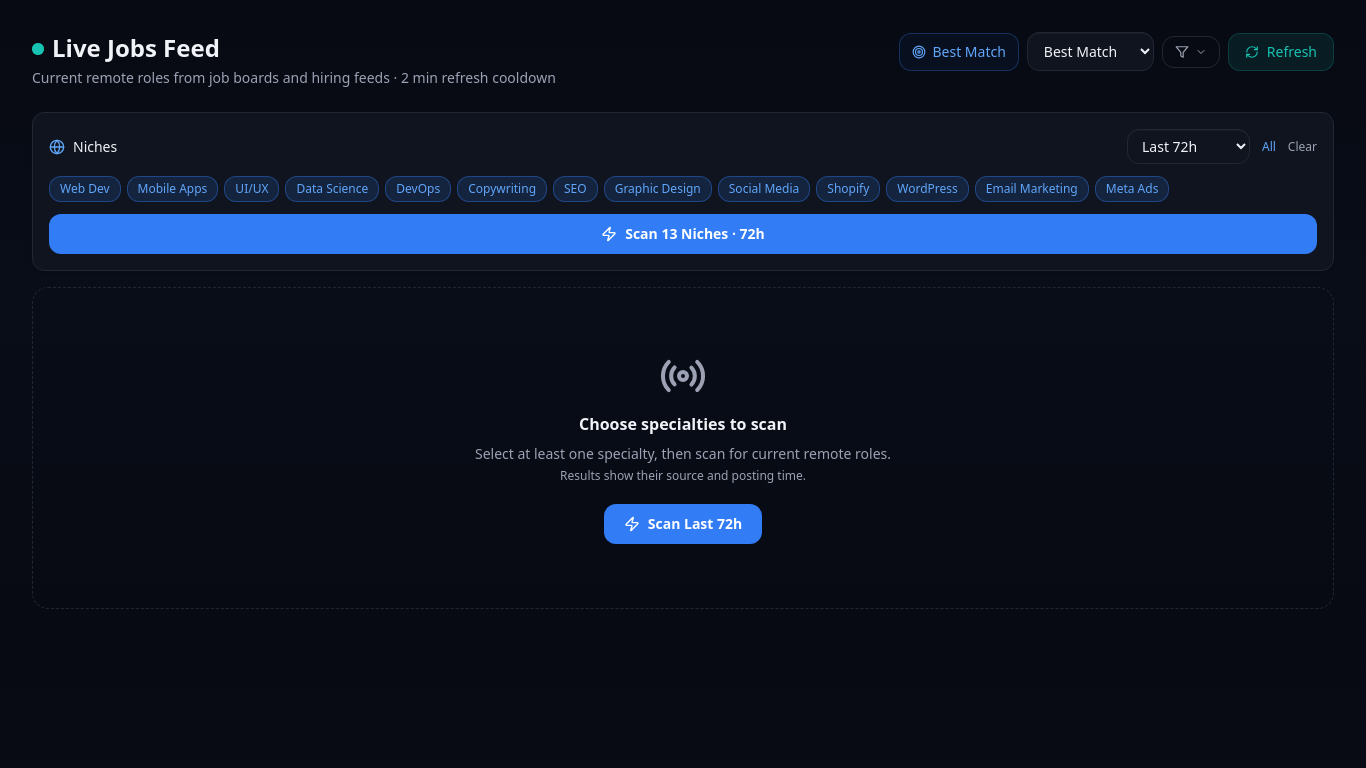
it: saves the same preference values through the accessible controls
The image size is (1366, 768).
Click the button with aria-label "Best Match settings" at (959,52), box [899,32,1019,70]
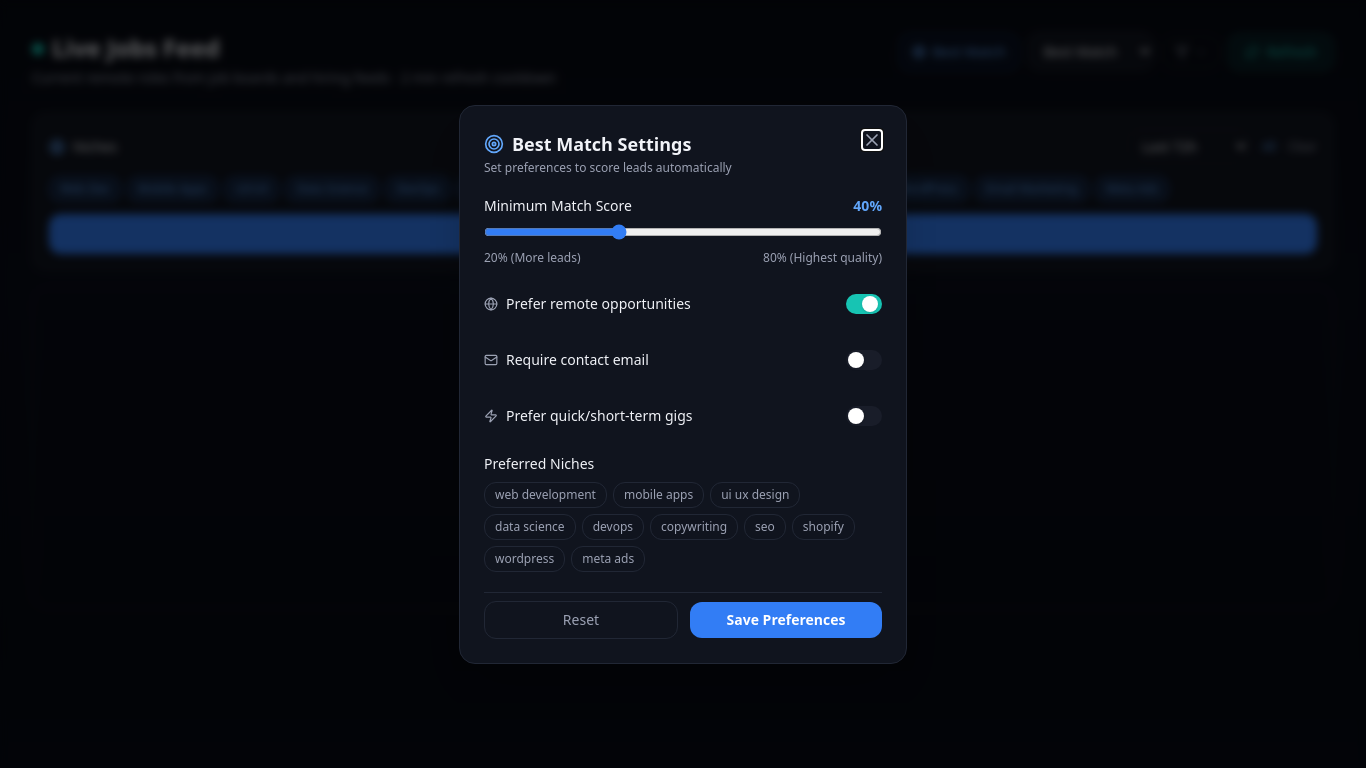
Click the switch named "Require contact email" at (864,360), box [846,350,882,370]
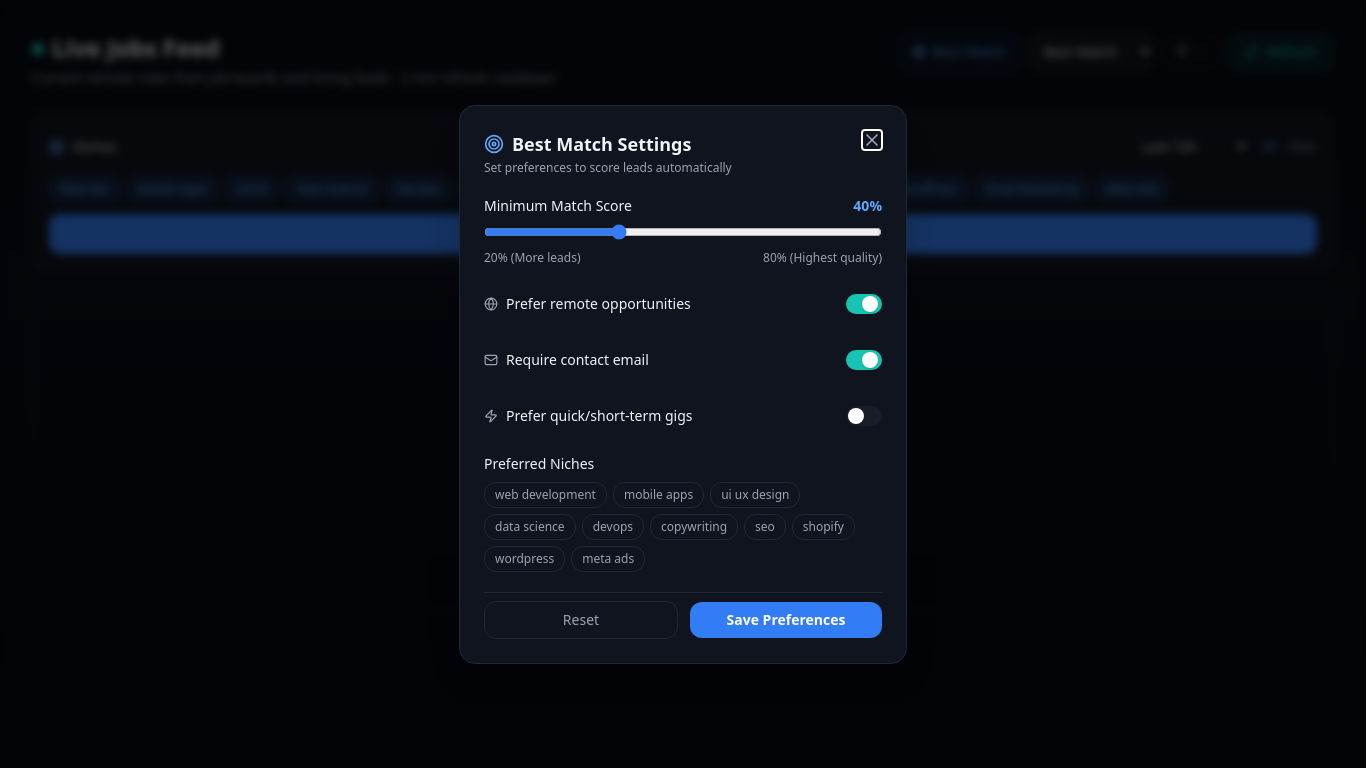
Set the slider named "Minimum Match Score" to "70" at (810,232), box [484,224,882,240]
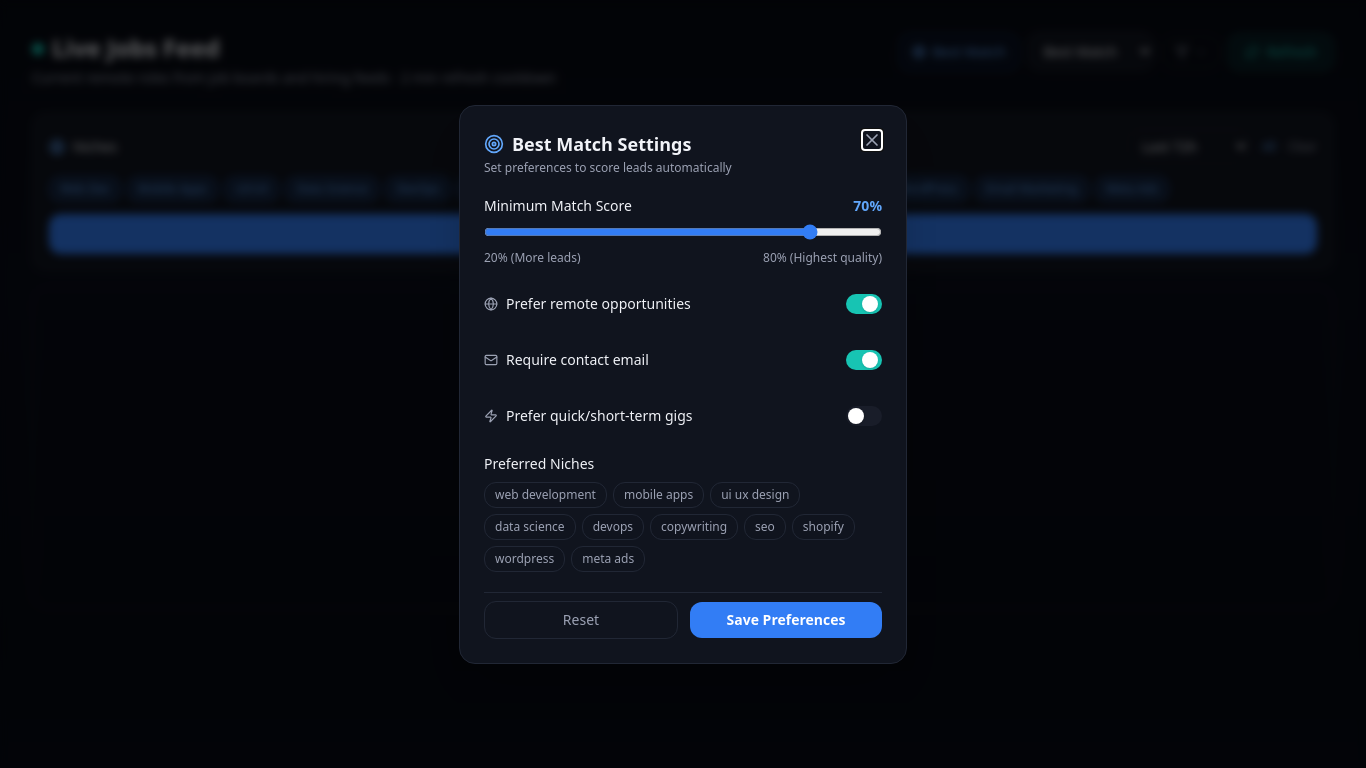
Click the button "Save Preferences" at (786,620), box [690,602,882,638]
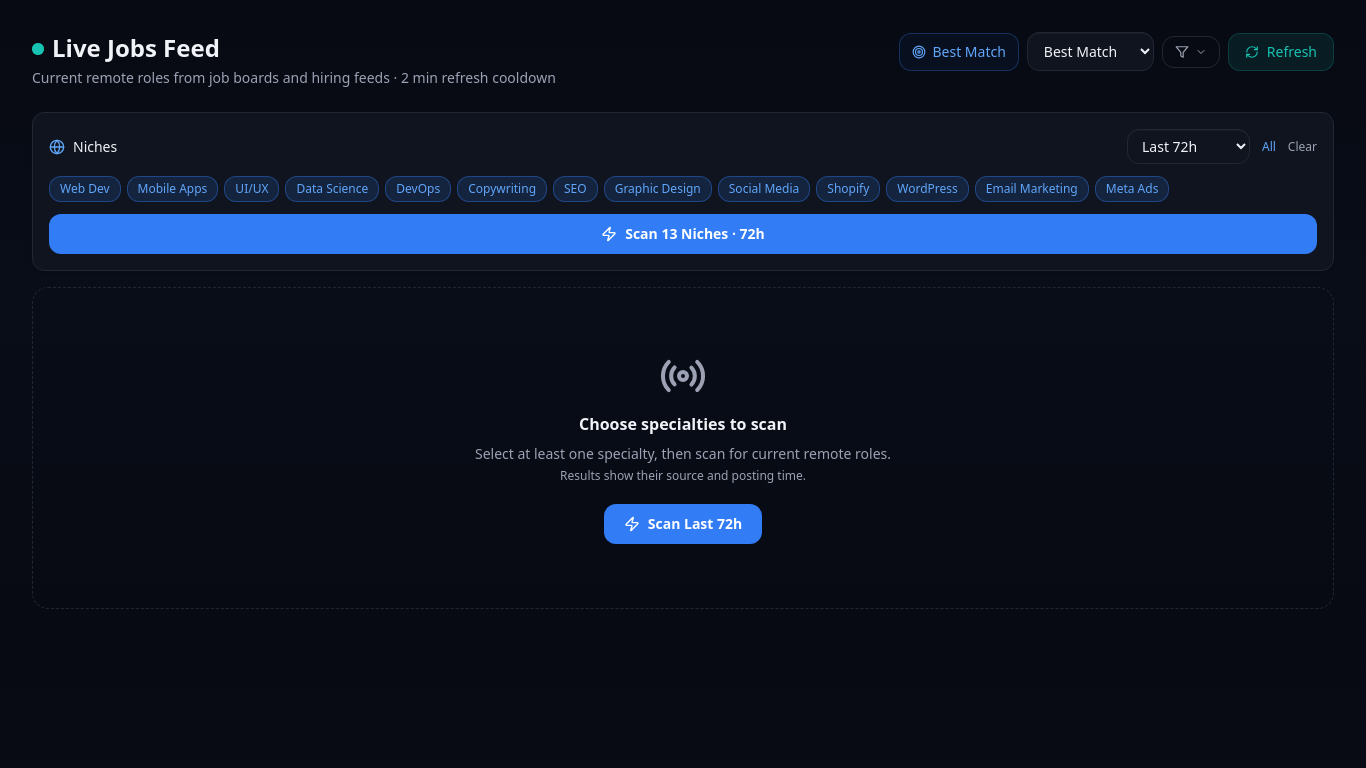
Result: the dialog is gone
